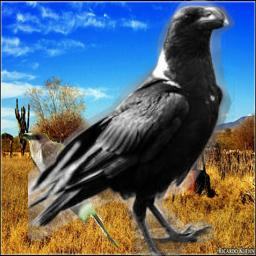Crow: (28, 0, 235, 256)
Cuckoo: (22, 131, 118, 248)
